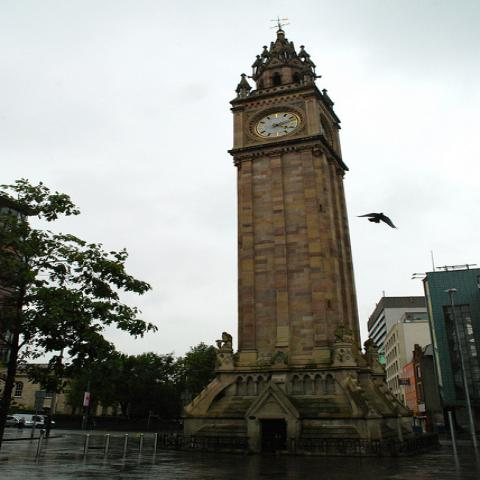car: (12, 414, 56, 428), (6, 415, 37, 428)
